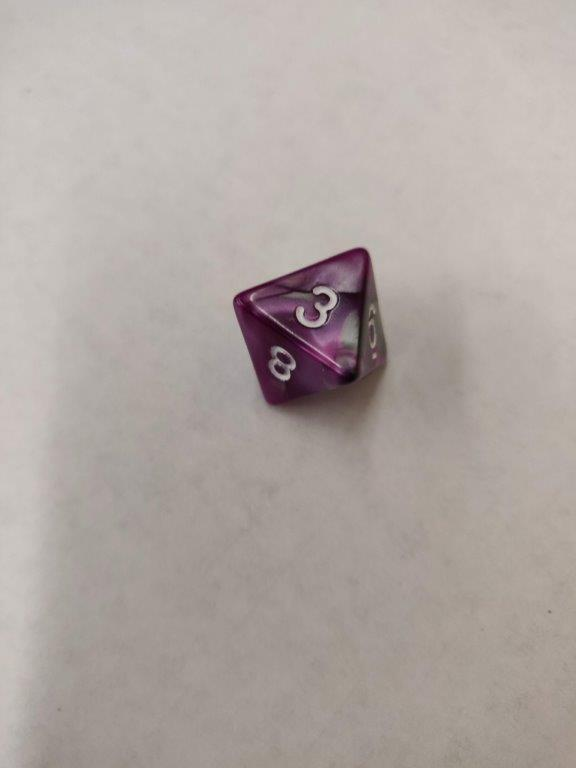d8-3: (230, 246, 388, 409)
